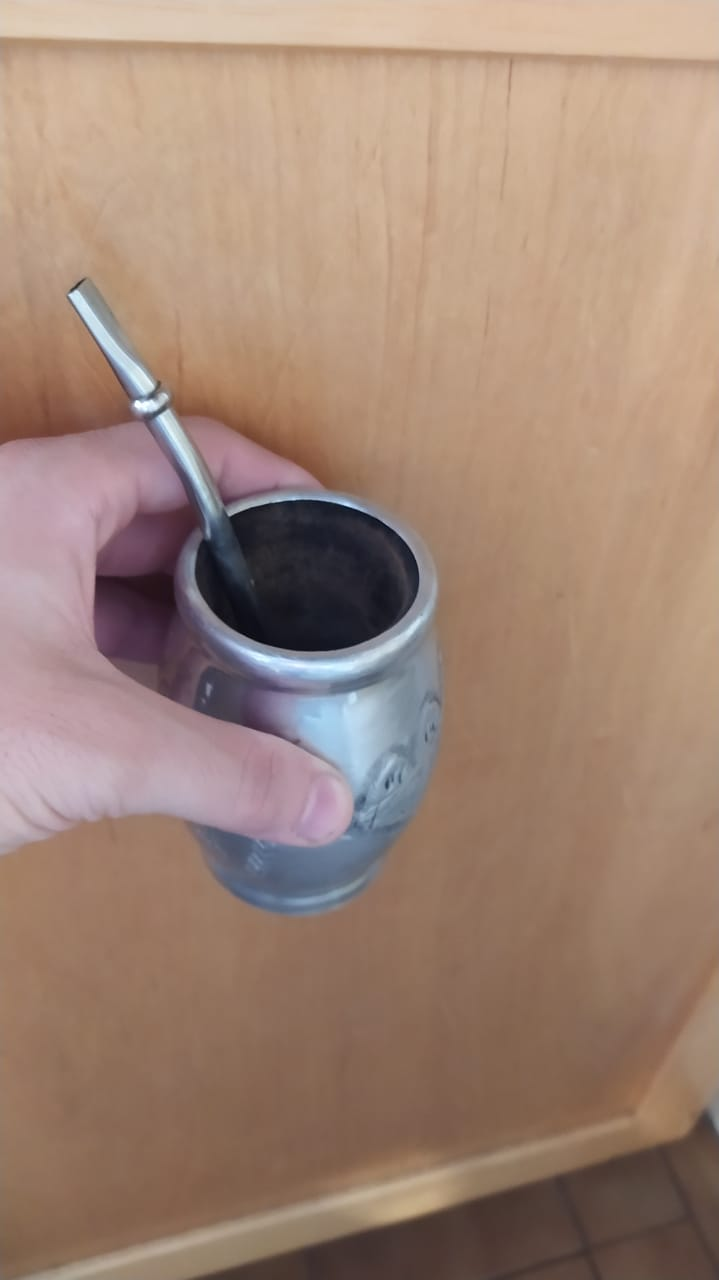mate: (44, 263, 472, 923)
metal: (46, 265, 474, 925)
